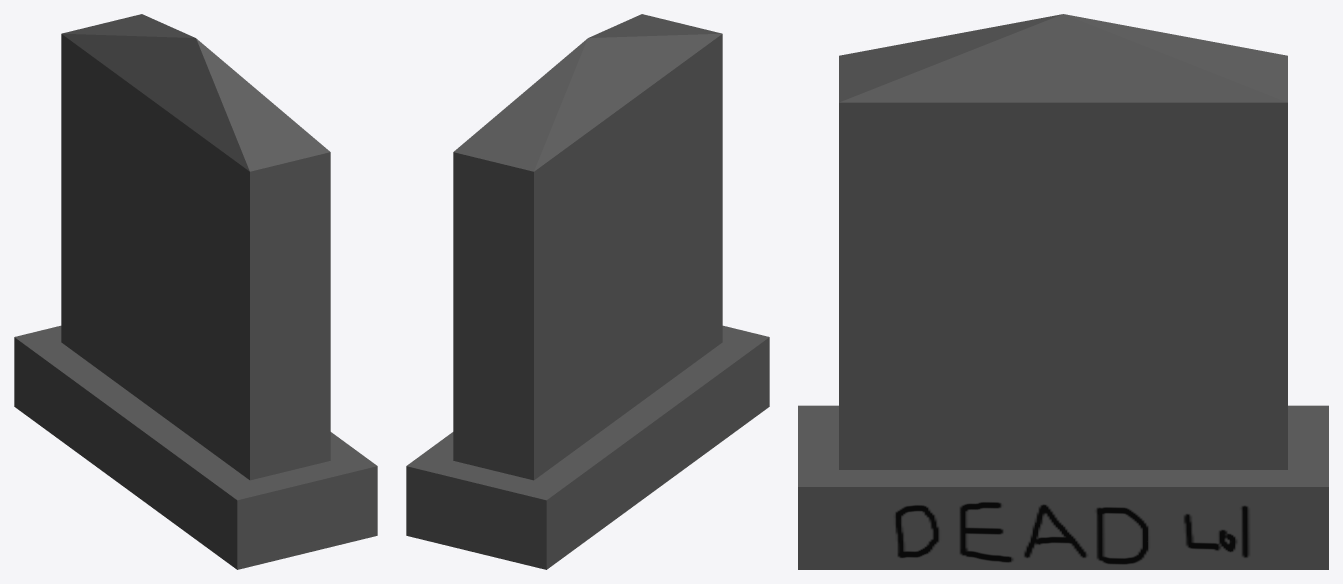
Rendered from StoneMid1.glb.
3 renders of one model, left to right at view 1: azimuth 30°, elevation 25°; view 2: azimuth 150°, elevation 25°; view 3: azimuth 270°, elevation 25°, orthographic. The views are drawn at different scales.
Visible parts, largest first — view 1: Cube; view 2: Cube; view 3: Cube.
Part boxes in pixels (x1=…): Cube: x1=14, y1=14, x2=377, y2=569; Cube: x1=406, y1=14, x2=769, y2=569; Cube: x1=798, y1=14, x2=1328, y2=569.
Bounding box in the file's own units: 1.12 × 3.3 × 3.08.
Materials: 1 (1 with a texture image).
